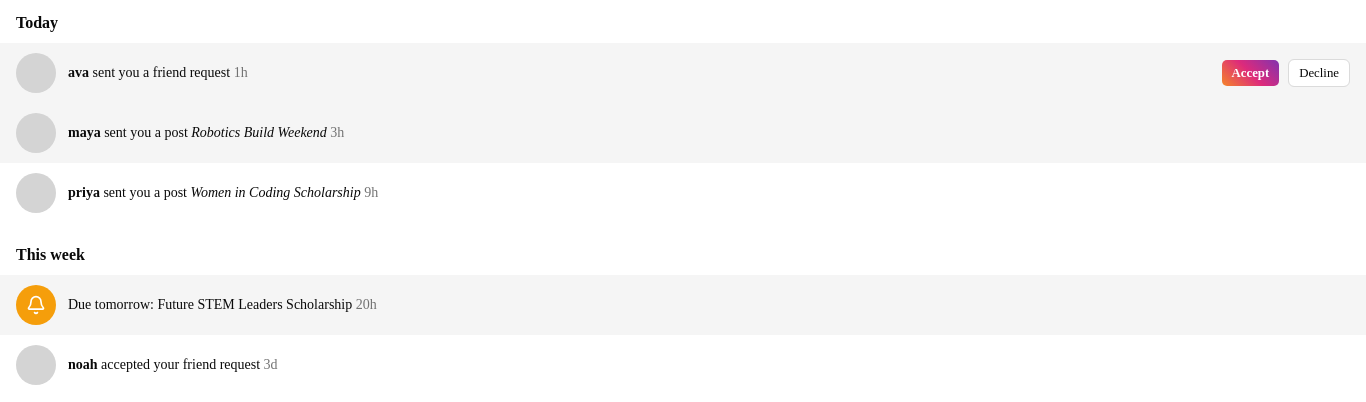
Test: notifications › accepts a friend request inline
Click the button "Accept".
click(1250, 73)  # box 1220,59 -> 1280,87
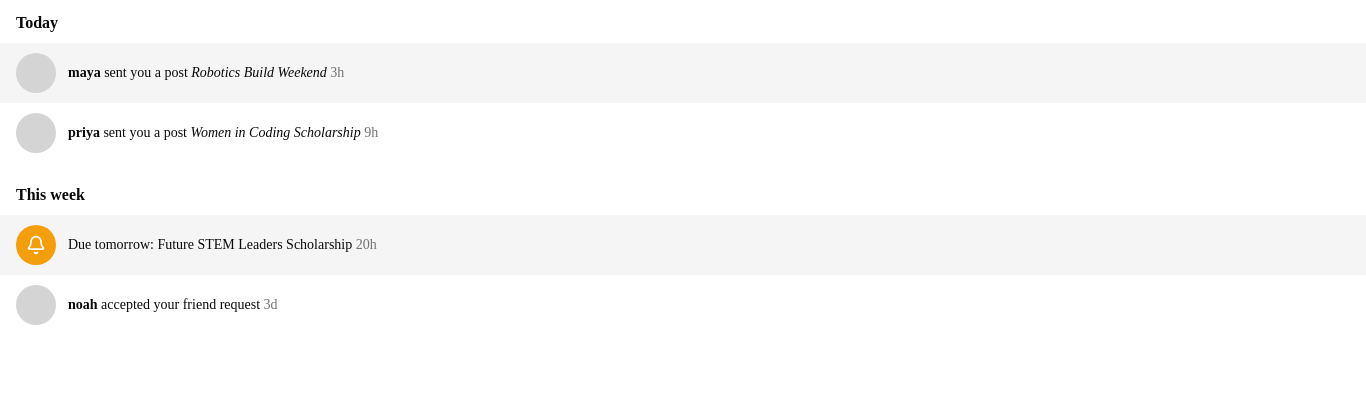
Expected: the link "sent you a friend request" is gone
